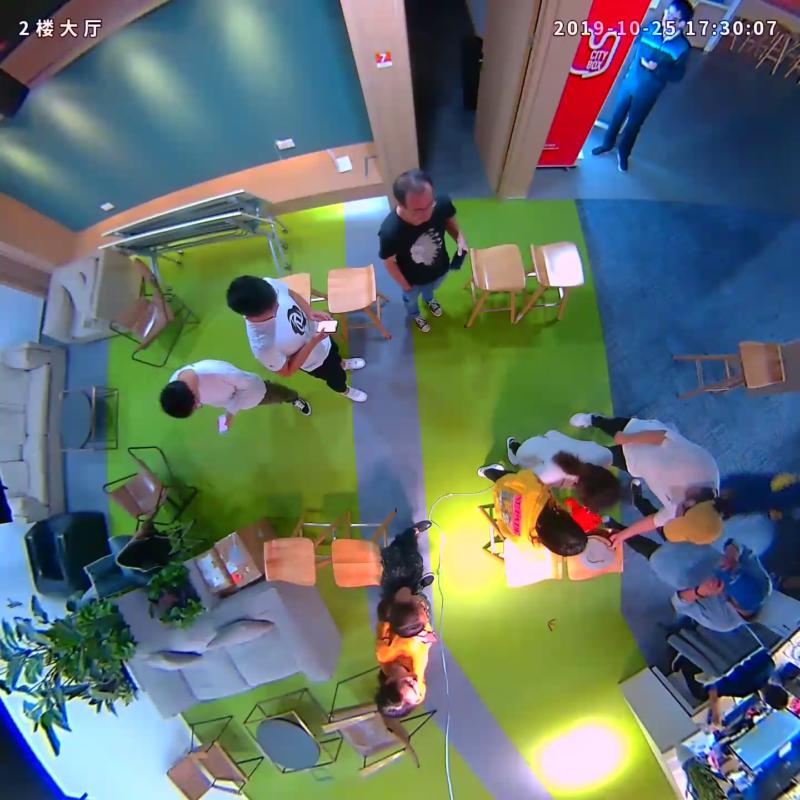head: (718, 548, 773, 613), (661, 498, 726, 547), (573, 463, 623, 517), (227, 273, 279, 323), (539, 509, 588, 559), (391, 168, 436, 222), (376, 672, 419, 719), (386, 597, 431, 638), (159, 379, 201, 418), (662, 1, 694, 31)
